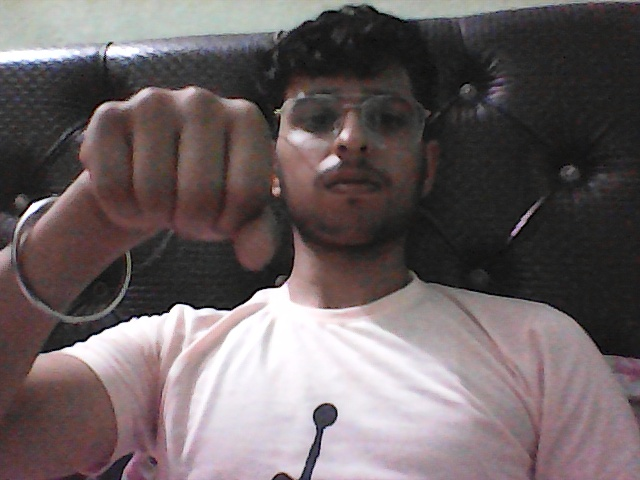yes: (56, 55, 311, 290)
